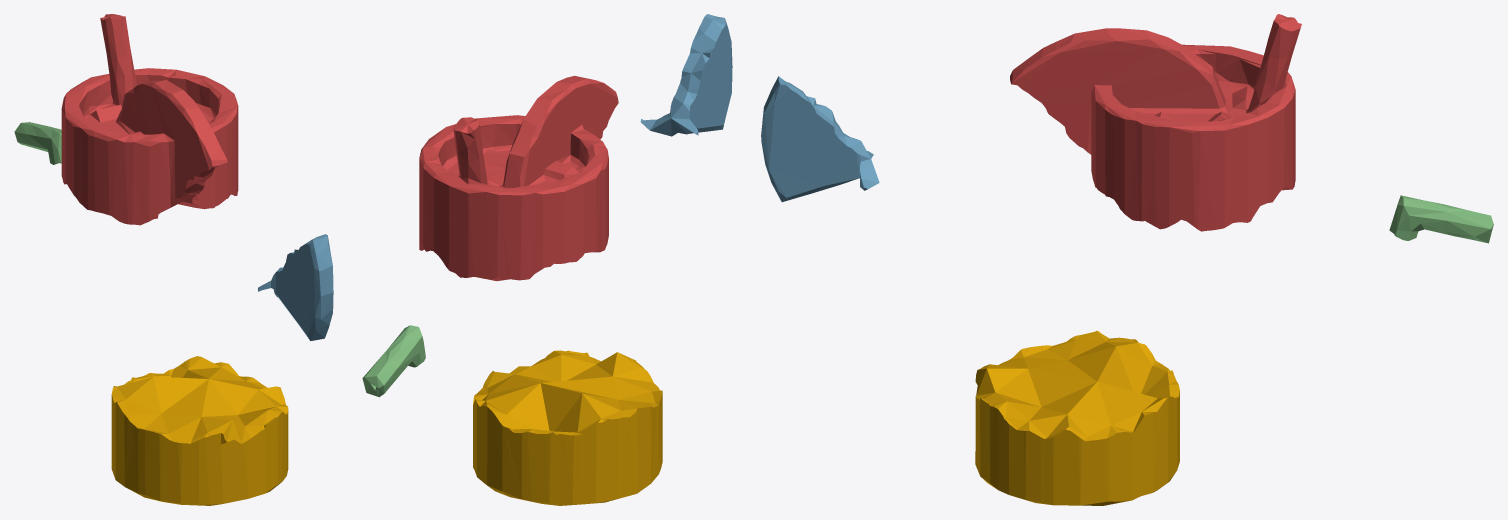
The model's file is mode_3_4pcs_transformed.glb.
3 renders of one model, left to right at view 1: azimuth 30°, elevation 25°; view 2: azimuth 150°, elevation 25°; view 3: azimuth 270°, elevation 25°, orthographic. The views are drawn at different scales.
Visible parts, largest first — view 1: piece_1.obj, piece_0.obj, piece_2.obj, piece_3.obj; view 2: piece_1.obj, piece_0.obj, piece_2.obj, piece_3.obj; view 3: piece_1.obj, piece_0.obj, piece_2.obj, piece_3.obj.
Part boxes in pixels (bbox=[...]): piece_1.obj: bbox=[61, 14, 238, 225]; piece_0.obj: bbox=[111, 356, 288, 505]; piece_2.obj: bbox=[258, 234, 333, 341]; piece_3.obj: bbox=[14, 122, 61, 164]; piece_1.obj: bbox=[419, 76, 618, 280]; piece_0.obj: bbox=[473, 350, 662, 505]; piece_2.obj: bbox=[640, 14, 732, 136]; piece_3.obj: bbox=[362, 325, 425, 397]; piece_1.obj: bbox=[1010, 14, 1301, 231]; piece_0.obj: bbox=[975, 331, 1179, 505]; piece_2.obj: bbox=[761, 76, 879, 202]; piece_3.obj: bbox=[1389, 195, 1493, 243].
Size of the model in its own units: 0.5301 by 1.29 by 1.9.
